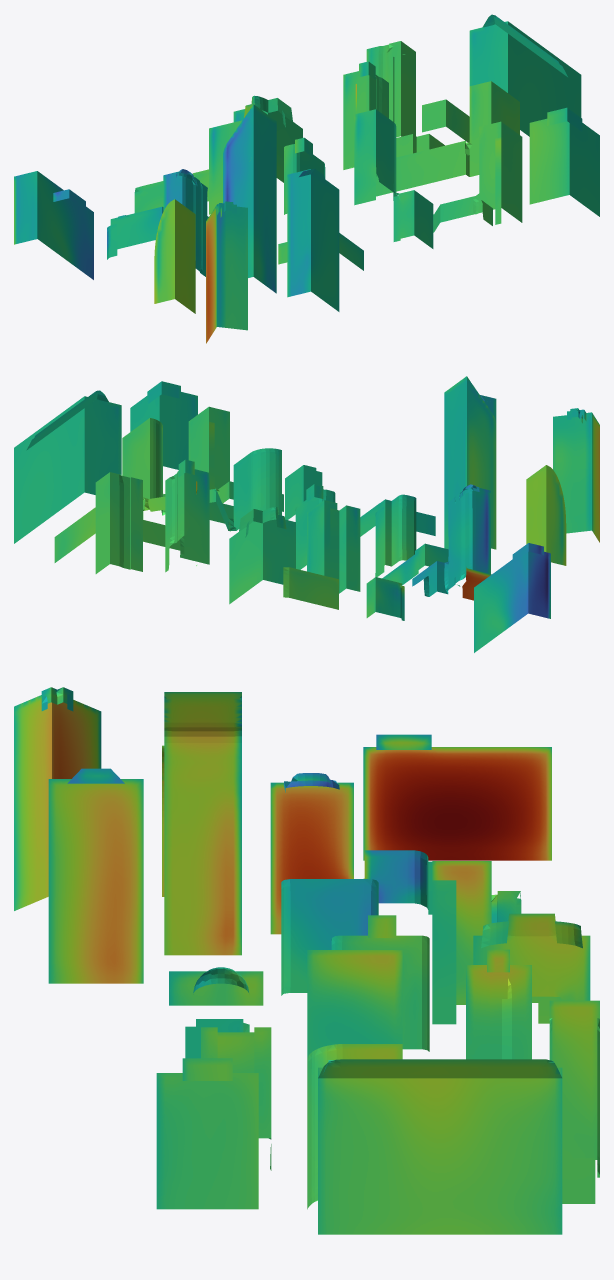
File: wab_animated_v1.0.glb
The picture shows the model from 3 angles, top to bottom: view 1: azimuth 30°, elevation 25°; view 2: azimuth 150°, elevation 25°; view 3: azimuth 270°, elevation 25°; orthographic projection. The views are drawn at different scales.
Visible parts, largest first — view 1: Renderer Node; view 2: Renderer Node; view 3: Renderer Node.
Part boxes in pixels (x1,y1,x2,y2): Renderer Node: (14,14,599,343); Renderer Node: (14,376,599,652); Renderer Node: (14,687,599,1234).
Bounding box in the file's own units: 7.54 × 2.5 × 4.61.
Materials: 1 (1 with a texture image).
